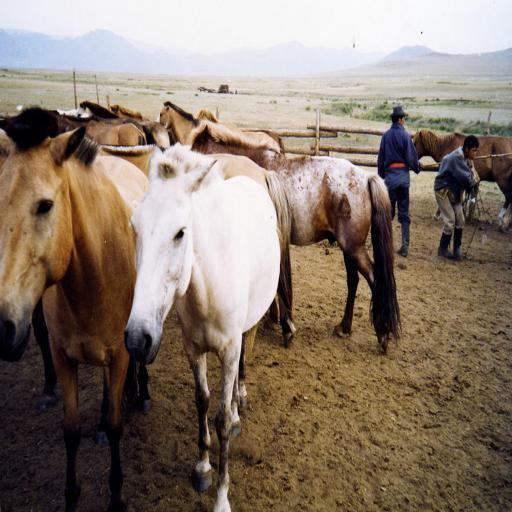horse: (0, 100, 406, 511), (412, 126, 512, 233)
